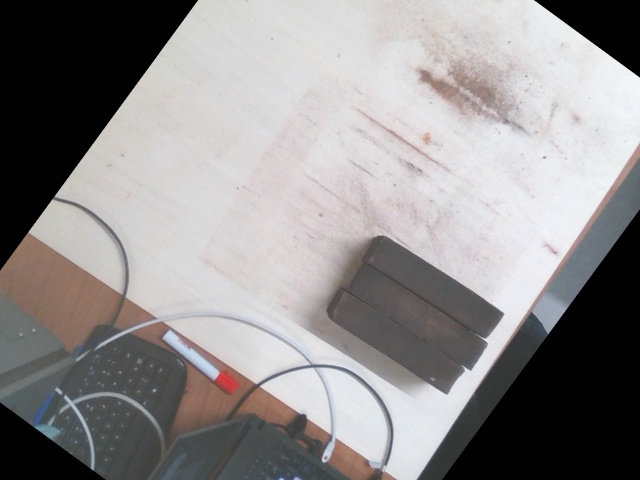brick-side: (330, 292, 465, 396), (352, 265, 487, 369), (370, 236, 504, 340)
